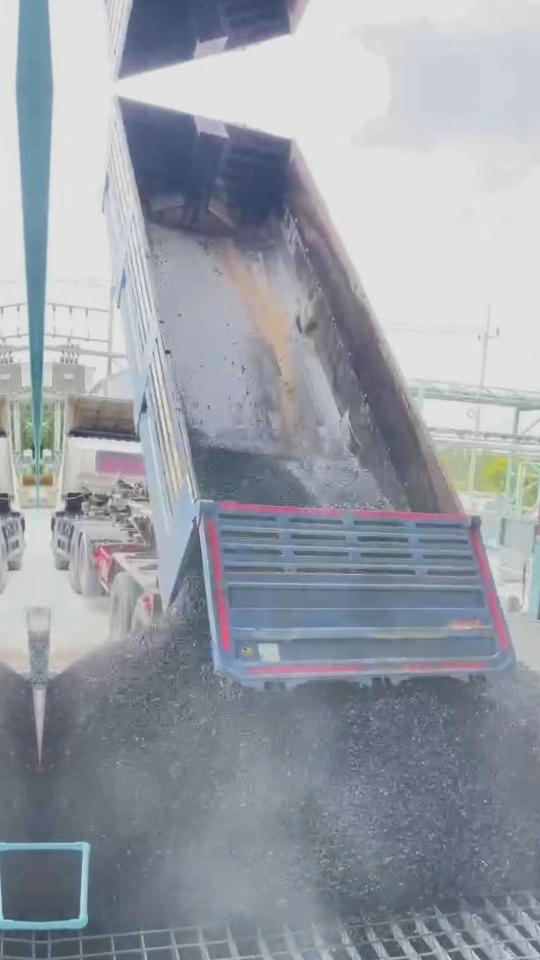gravel: (41, 622, 540, 929), (197, 436, 312, 505), (40, 849, 80, 920)
